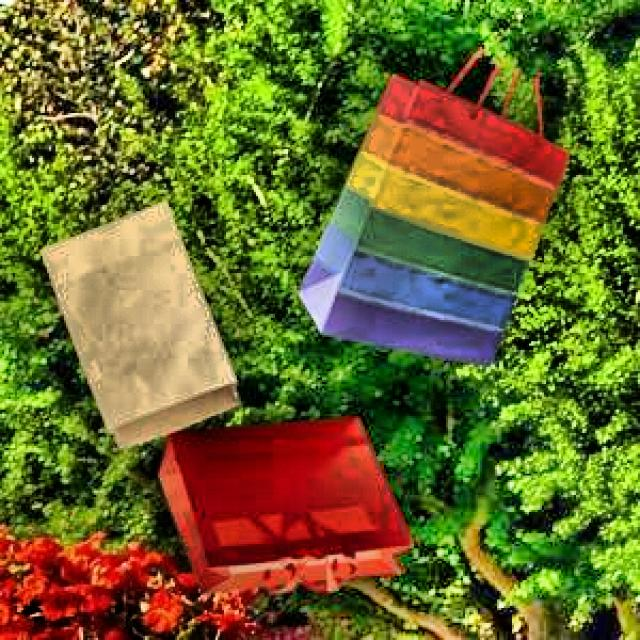Paper-bag: (287, 63, 570, 369), (142, 406, 406, 612), (32, 195, 242, 453)
